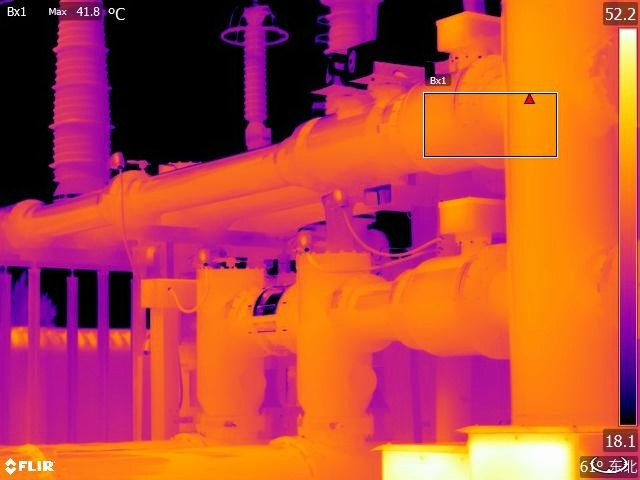lightning arrester: (212, 1, 298, 154)
tube: (41, 1, 120, 194), (314, 5, 373, 80)
